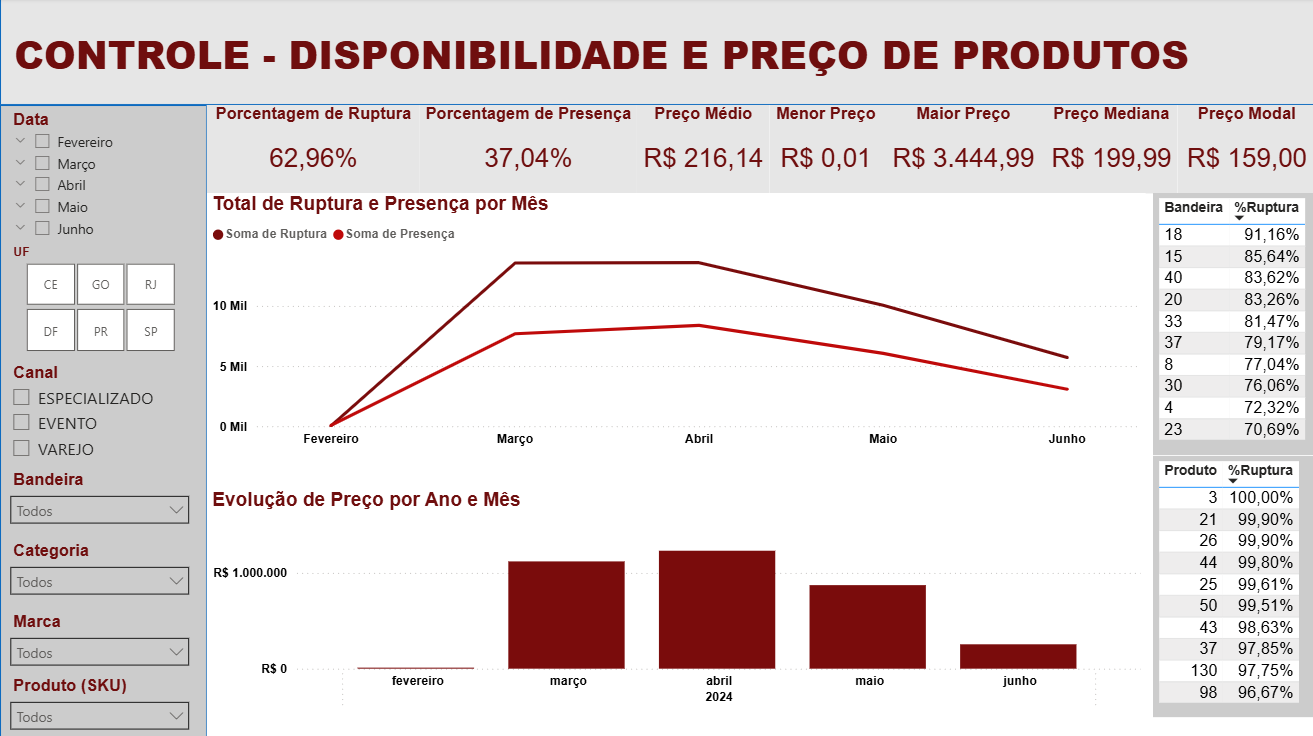

The page's visual inventory and layout, read from the dashboard file:
{"tool":"powerbi","page":{"name":"Página 1","canvas":[1280,720],"ordinal":0},"visuals":[{"type":"shape","box":[0,0,1280,104.1],"z":0},{"type":"shape","box":[0,104.1,201.3,615.7],"z":1000},{"type":"textbox","box":[8.8,23.3,1183.7,80.7],"z":2000},{"type":"card","title":"Porcentagem de Ruptura","fields":{"Values":["fProdutos.% Ruptura"]},"box":[201.3,104.1,207.2,85.6],"z":4000},{"type":"card","title":"Porcentagem de Presença","fields":{"Values":["fProdutos.%Presenca"]},"box":[408.5,104.1,211.1,85.6],"z":5000},{"type":"card","title":"Preço Médio","fields":{"Values":["fProdutos.Preço Medio"]},"box":[619.6,104.1,129.4,86.6],"z":6000},{"type":"card","title":"Maior Preço","fields":{"Values":["fProdutos.Maior Preço"]},"box":[857.9,104.1,158.5,86.6],"z":7000},{"type":"card","title":"Menor Preço","fields":{"Values":["fProdutos.Menor Preço"]},"box":[748.9,104.1,108.9,85.6],"z":8000},{"type":"card","title":"Preço Mediana","fields":{"Values":["fProdutos.Preço Mediana"]},"box":[1016.4,104.1,129.4,85.6],"z":9000},{"type":"card","title":"Preço Modal","fields":{"Values":["fProdutos.Preco Moda"]},"box":[1145.8,104.1,134.2,85.6],"z":10000},{"type":"slicer","fields":{"Values":["dPessoa.UF"]},"box":[0,235,194.2,114.8],"z":11000},{"type":"slicer","fields":{"Values":["dLoja.DES_CANAL"]},"box":[0,349.8,164.2,104.1],"z":12000},{"type":"slicer","fields":{"Values":["dLoja.COD_BANDEIRA"]},"box":[0,453.8,194.2,69.7],"z":13000},{"type":"slicer","fields":{"Values":["dSKU.COD_CATEGORIA"]},"box":[0,523.6,194.2,68.7],"z":14000},{"type":"slicer","fields":{"Values":["dSKU.DES_MARCA"]},"box":[0,592.3,194.2,68.7],"z":15000},{"type":"slicer","fields":{"Values":["dSKU.COD_SKU"]},"box":[0,654.5,194.2,65.4],"z":16000},{"type":"slicer","fields":{"Values":["dCalendario.Mes","dCalendario.Semana do Mes"]},"box":[0,104.1,201.3,138.1],"z":17000},{"type":"tableEx","title":"10 Piores % Ruptura por Bandeira","fields":{"Values":["dLoja.COD_BANDEIRA","fProdutos.%Ruptura"]},"box":[1121.5,189.7,158.5,254.8],"z":18000},{"type":"tableEx","title":"10 Piores % Ruptura por Produto (SKU)","fields":{"Values":["dSKU.COD_SKU","fProdutos.%Ruptura"]},"box":[1121.5,445.5,158.5,253.9],"z":19000},{"type":"lineChart","title":"Total de Ruptura e Presença por Mês","fields":{"Y":["Sum(fProdutos.Contagem Ruptura)","Sum(fProdutos.Contagem Presença)"],"Category":["dCalendario.Mes"]},"box":[201.3,189.7,913.3,254.8],"z":20000},{"type":"clusteredColumnChart","title":"Evolução de Preço por Ano e Mês","fields":{"Y":["Sum(fProdutos.PRECO)"],"Category":["dCalendario.Date.Variation.Hierarquia de datas.Ano","dCalendario.Date.Variation.Hierarquia de datas.Mês"]},"box":[201.3,477.6,913.3,221.8],"z":21000}]}

Visuals, with their boxes in screenshot pixels (x1, y1, x2, y2), scaled from the page's 1280x720 canvas onto the 1313x736 screenshot:
shape: 0, 0, 1312, 106
shape: 0, 106, 206, 735
textbox: 9, 24, 1223, 106
"Porcentagem de Ruptura" card: 206, 106, 419, 194
"Porcentagem de Presença" card: 419, 106, 636, 194
"Preço Médio" card: 636, 106, 768, 195
"Maior Preço" card: 880, 106, 1043, 195
"Menor Preço" card: 768, 106, 880, 194
"Preço Mediana" card: 1043, 106, 1175, 194
"Preço Modal" card: 1175, 106, 1312, 194
slicer - dPessoa.UF: 0, 240, 199, 358
slicer - dLoja.DES_CANAL: 0, 358, 168, 464
slicer - dLoja.COD_BANDEIRA: 0, 464, 199, 535
slicer - dSKU.COD_CATEGORIA: 0, 535, 199, 605
slicer - dSKU.DES_MARCA: 0, 605, 199, 676
slicer - dSKU.COD_SKU: 0, 669, 199, 735
slicer - dCalendario.Mes x dCalendario.Semana do Mes: 0, 106, 206, 248
"10 Piores % Ruptura por Bandeira" tableEx: 1150, 194, 1312, 454
"10 Piores % Ruptura por Produto (SKU)" tableEx: 1150, 455, 1312, 715
"Total de Ruptura e Presença por Mês" lineChart: 206, 194, 1143, 454
"Evolução de Preço por Ano e Mês" clusteredColumnChart: 206, 488, 1143, 715
